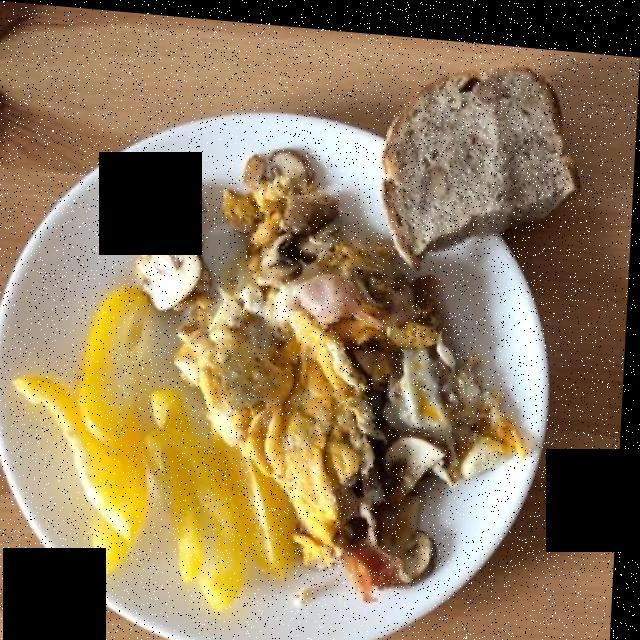bacon: (299, 258, 389, 584)
bell-pepper: (17, 291, 302, 595)
bread: (390, 58, 566, 253)
egg: (141, 134, 521, 581)
mushroom: (154, 167, 444, 579)
